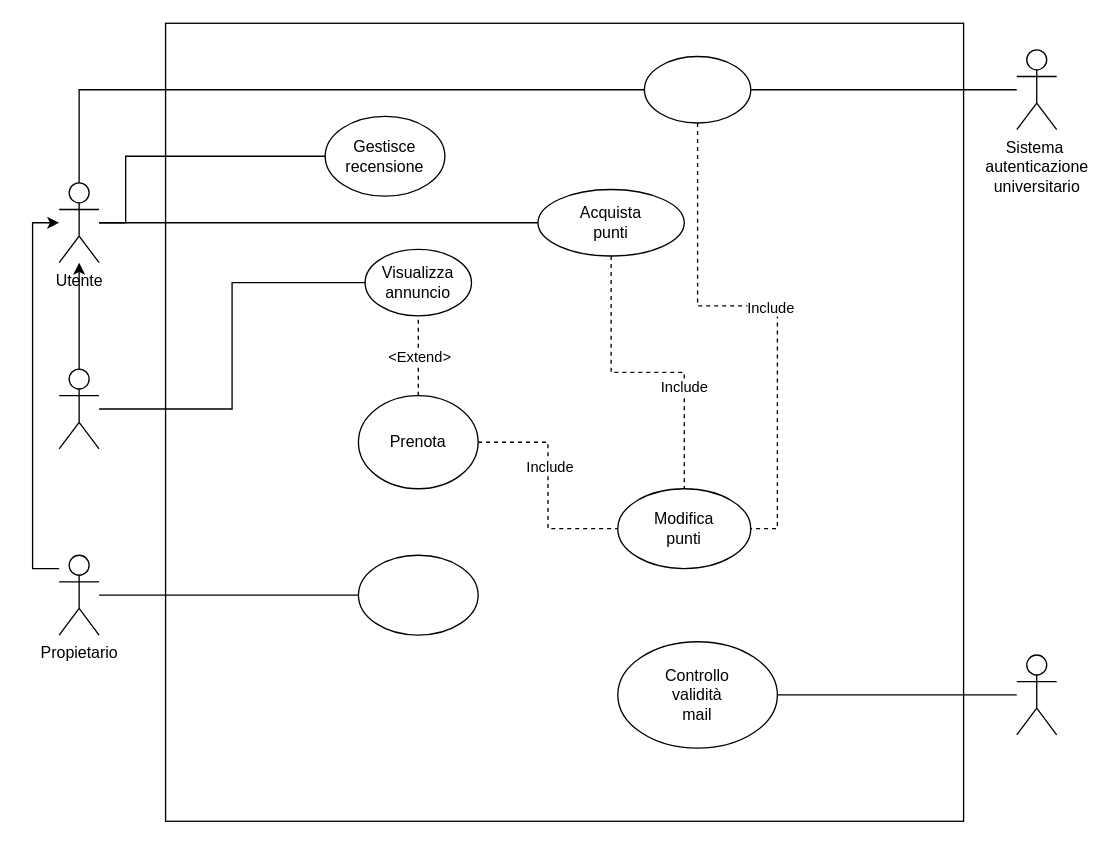
The diagram is 1111 pixels wide and 845 high, and some of its shapes have lost their labels. Each missing label, with the box of its shape:
Crea annuncio: (357, 554, 478, 635)
Registra: (643, 55, 751, 123)
Richiedente: (58, 368, 99, 449)
Tempo: (1015, 654, 1057, 735)
